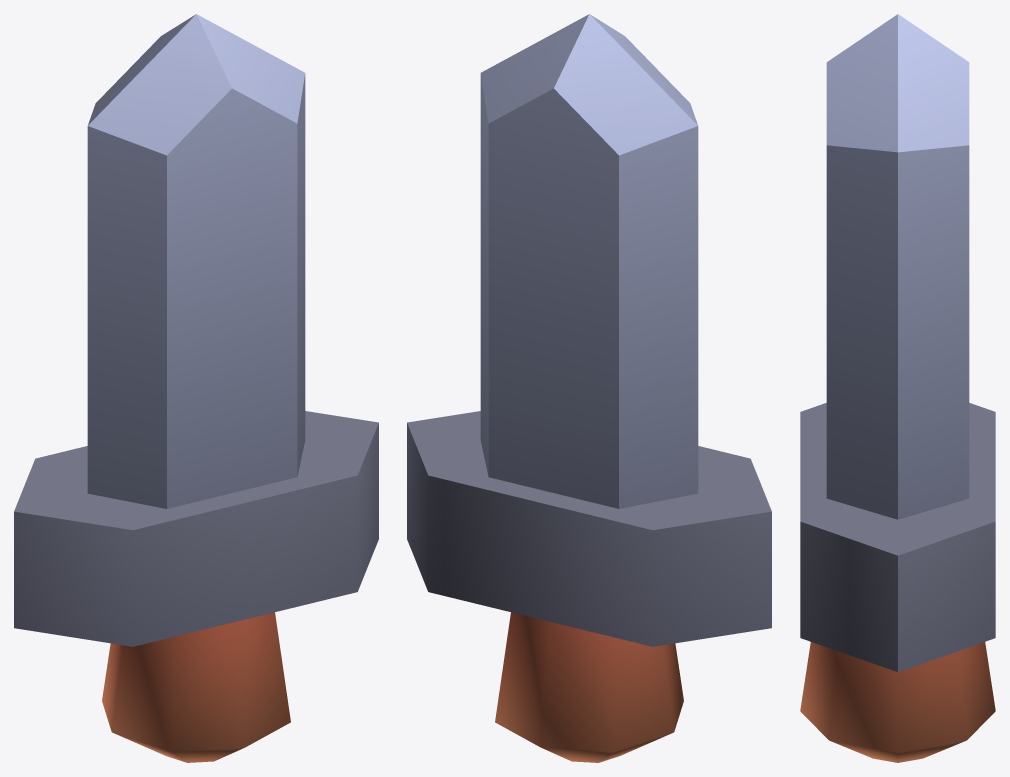
Rendered from weapon-sword.obj.
3 views of the same model, side by side, from view 1: azimuth 30°, elevation 25°; view 2: azimuth 150°, elevation 25°; view 3: azimuth 270°, elevation 25° (orthographic).
Parts seen in each view (by area): view 1: weapon-sword; view 2: weapon-sword; view 3: weapon-sword.
Part boxes in pixels (bbox=[...]): weapon-sword: bbox=[14, 14, 378, 762]; weapon-sword: bbox=[407, 14, 771, 762]; weapon-sword: bbox=[800, 14, 995, 762].
Size of the model in its own units: 0.233 by 0.448 by 0.1082.
Materials: 1 (1 with a texture image).
